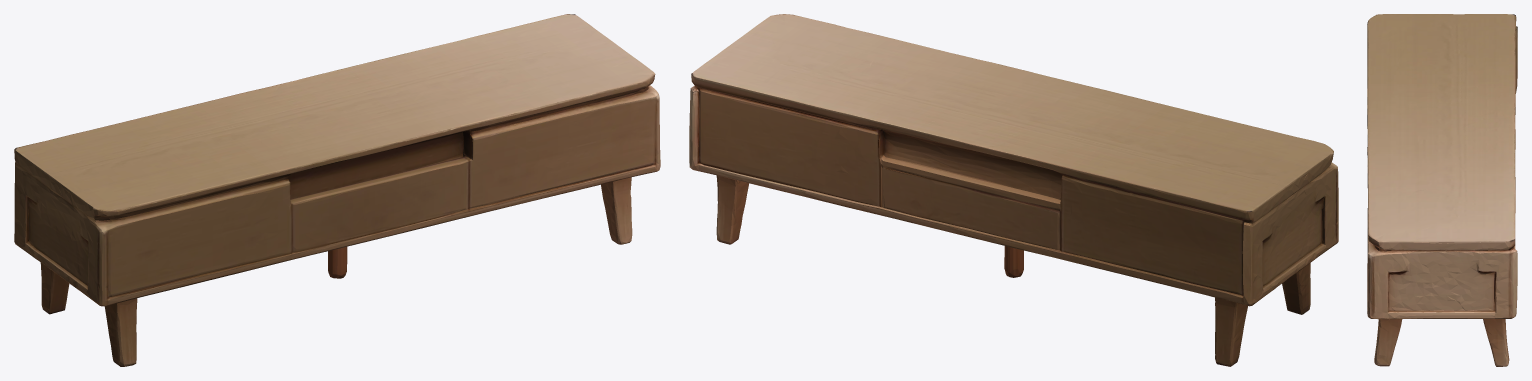
Rendered from ast_eea00f986e60.glb.
3 views of the same model, side by side, from view 1: azimuth 30°, elevation 25°; view 2: azimuth 150°, elevation 25°; view 3: azimuth 270°, elevation 25° (orthographic). The views are drawn at different scales.
Visible parts, largest first — view 1: geometry_0; view 2: geometry_0; view 3: geometry_0.
Part boxes in pixels (left/top/right/bottom): geometry_0: left=14, top=14, right=660, bottom=366; geometry_0: left=689, top=14, right=1338, bottom=366; geometry_0: left=1367, top=14, right=1517, bottom=366.
Bounding box in the file's own units: 1 × 0.279 × 0.2804.
1 material, 1 textured.
